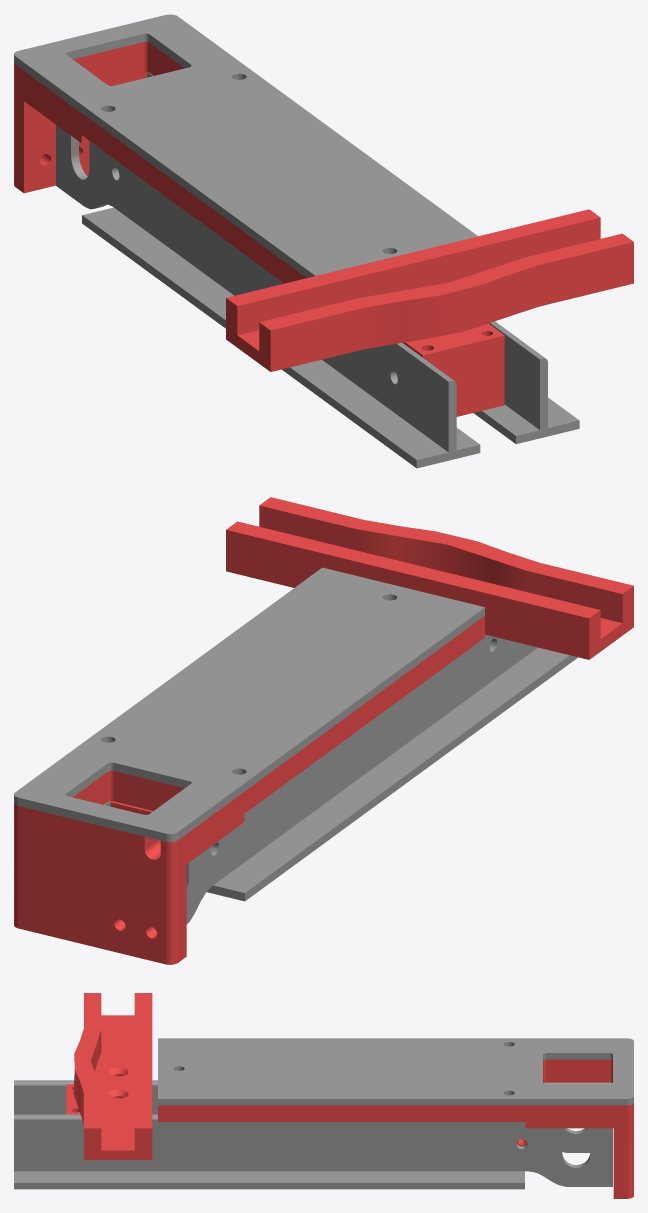
Rendered from M2_Pusher.glb.
3 views of the same model, one above another, from view 1: azimuth 30°, elevation 25°; view 2: azimuth 150°, elevation 25°; view 3: azimuth 270°, elevation 25° (orthographic). The views are drawn at different scales.
Parts seen in each view (by area): view 1: M2_Pusher; view 2: M2_Pusher; view 3: M2_Pusher.
Part boxes in pixels (box(x1,y1,x2,y2)): M2_Pusher: box(14, 14, 633, 468); M2_Pusher: box(14, 497, 633, 964); M2_Pusher: box(14, 993, 633, 1198).
Bounding box in the file's own units: 0.0915 × 0.034 × 0.1772.
